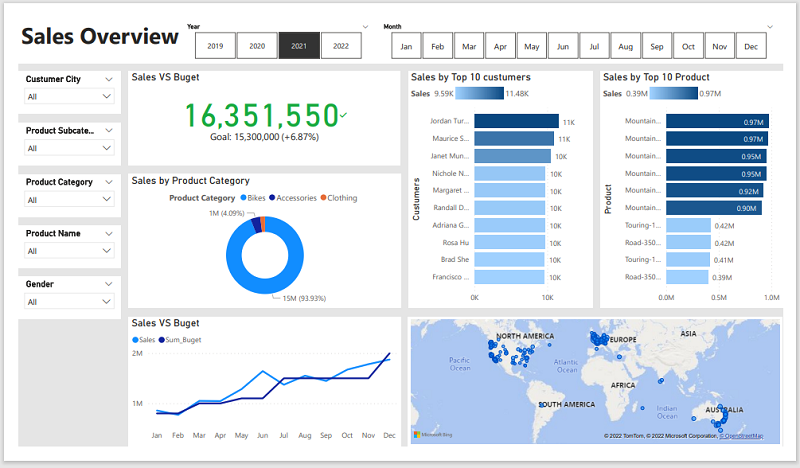

This screenshot's page, from the dashboard's own definition file:
{"tool":"powerbi","page":{"name":"Sales Overview","canvas":[1280,720],"ordinal":0},"visuals":[{"type":"textbox","box":[0,0,1280.5,77.6],"z":0},{"type":"slicer","fields":{"Values":["Dim_Custumer.Custumer City"]},"box":[0,91.8,170.8,72],"z":1000},{"type":"slicer","fields":{"Values":["Dim_Product.Product Subcategory"]},"box":[0,177.9,170.8,72],"z":2000},{"type":"slicer","fields":{"Values":["Dim_Product.Product Category"]},"box":[0,264,170.8,72],"z":3000},{"type":"slicer","fields":{"Values":["Dim_Product.Product Name"]},"box":[0,350.1,170.8,72],"z":4000},{"type":"slicer","fields":{"Values":["Dim_DateInformation.Year"]},"box":[269.6,5.6,328.9,72],"z":5000},{"type":"slicer","fields":{"Values":["Dim_DateInformation.MonthShort"]},"box":[598.6,5.6,677.6,72],"z":6000},{"type":"kpi","title":"Sales VS Buget ","fields":{"Indicator":["Measures Table.Sales"],"Goal":["Measures Table.Sum_Buget"],"TrendLine":["Dim_DateInformation.Year"]},"box":[184.9,91.8,454.6,158.1],"z":7000},{"type":"donutChart","fields":{"Category":["Dim_Product.Product Category"],"Y":["Measures Table.Sales"]},"box":[184.9,264,456,224.5],"z":8000},{"type":"lineChart","title":"Sales VS Buget","fields":{"Category":["Dim_DateInformation.MonthShort"],"Y":["Measures Table.Sales","Measures Table.Sum_Buget"]},"box":[184.9,502.6,456,217.4],"z":9000},{"type":"barChart","title":"Sales by Top 10 custumers","fields":{"Y":["Measures Table.Sales"],"Category":["Dim_Custumer.Full Name"]},"box":[653.6,91.8,309.2,396.7],"z":10000},{"type":"barChart","title":"Sales by Top 10 Product","fields":{"Y":["Measures Table.Sales"],"Category":["Dim_Product.Product Name"]},"box":[974.1,91.8,306.4,396.7],"z":11000},{"type":"map","fields":{"Category":["Dim_Custumer.Custumer City"],"Size":["Measures Table.Sales"]},"box":[653.6,502.6,626.8,217.4],"z":12000},{"type":"slicer","fields":{"Values":["Dim_Custumer.Gender"]},"box":[0,434.9,170.7,71.6],"z":13000}]}

Visuals, with their boxes on the page's 1280x720 design canvas (x1, y1, x2, y2). These are canvas units, not pixel positions in the 800x468 screenshot, which may show the page scaled, cropped or inside an application window:
textbox: 0:0:1280:78
slicer - Dim_Custumer.Custumer City: 0:92:171:164
slicer - Dim_Product.Product Subcategory: 0:178:171:250
slicer - Dim_Product.Product Category: 0:264:171:336
slicer - Dim_Product.Product Name: 0:350:171:422
slicer - Dim_DateInformation.Year: 270:6:598:78
slicer - Dim_DateInformation.MonthShort: 599:6:1276:78
"Sales VS Buget " kpi: 185:92:640:250
donutChart - Dim_Product.Product Category x Measures Table.Sales: 185:264:641:488
"Sales VS Buget" lineChart: 185:503:641:720
"Sales by Top 10 custumers" barChart: 654:92:963:488
"Sales by Top 10 Product" barChart: 974:92:1280:488
map - Dim_Custumer.Custumer City x Measures Table.Sales: 654:503:1280:720
slicer - Dim_Custumer.Gender: 0:435:171:506
